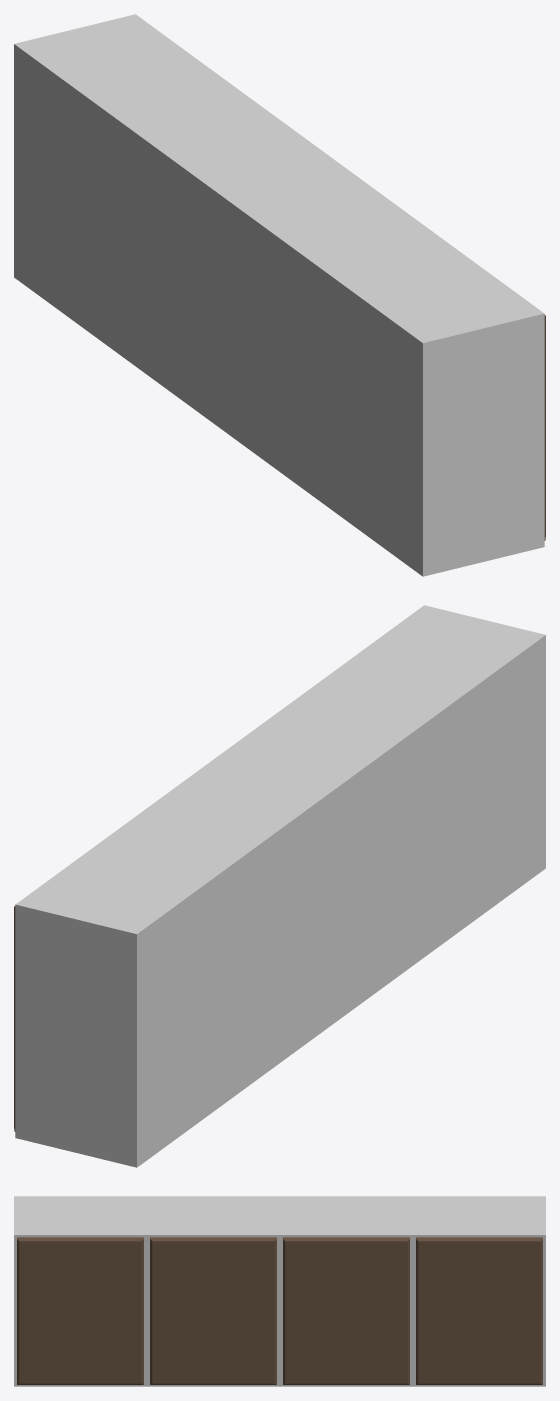
The model's file is TopCupboards.fbx.
3 renders of one model, top to bottom at view 1: azimuth 30°, elevation 25°; view 2: azimuth 150°, elevation 25°; view 3: azimuth 270°, elevation 25°, orthographic. The views are drawn at different scales.
Parts seen in each view (by area): view 1: TopCupboards; view 2: TopCupboards; view 3: TopCupboards.
Part boxes in pixels (box(x1,y1,x2,y2)): TopCupboards: box(14, 14, 545, 576); TopCupboards: box(14, 605, 545, 1167); TopCupboards: box(14, 1196, 545, 1386).
Bounding box in the file's own units: 49.48 × 86.9 × 276.
